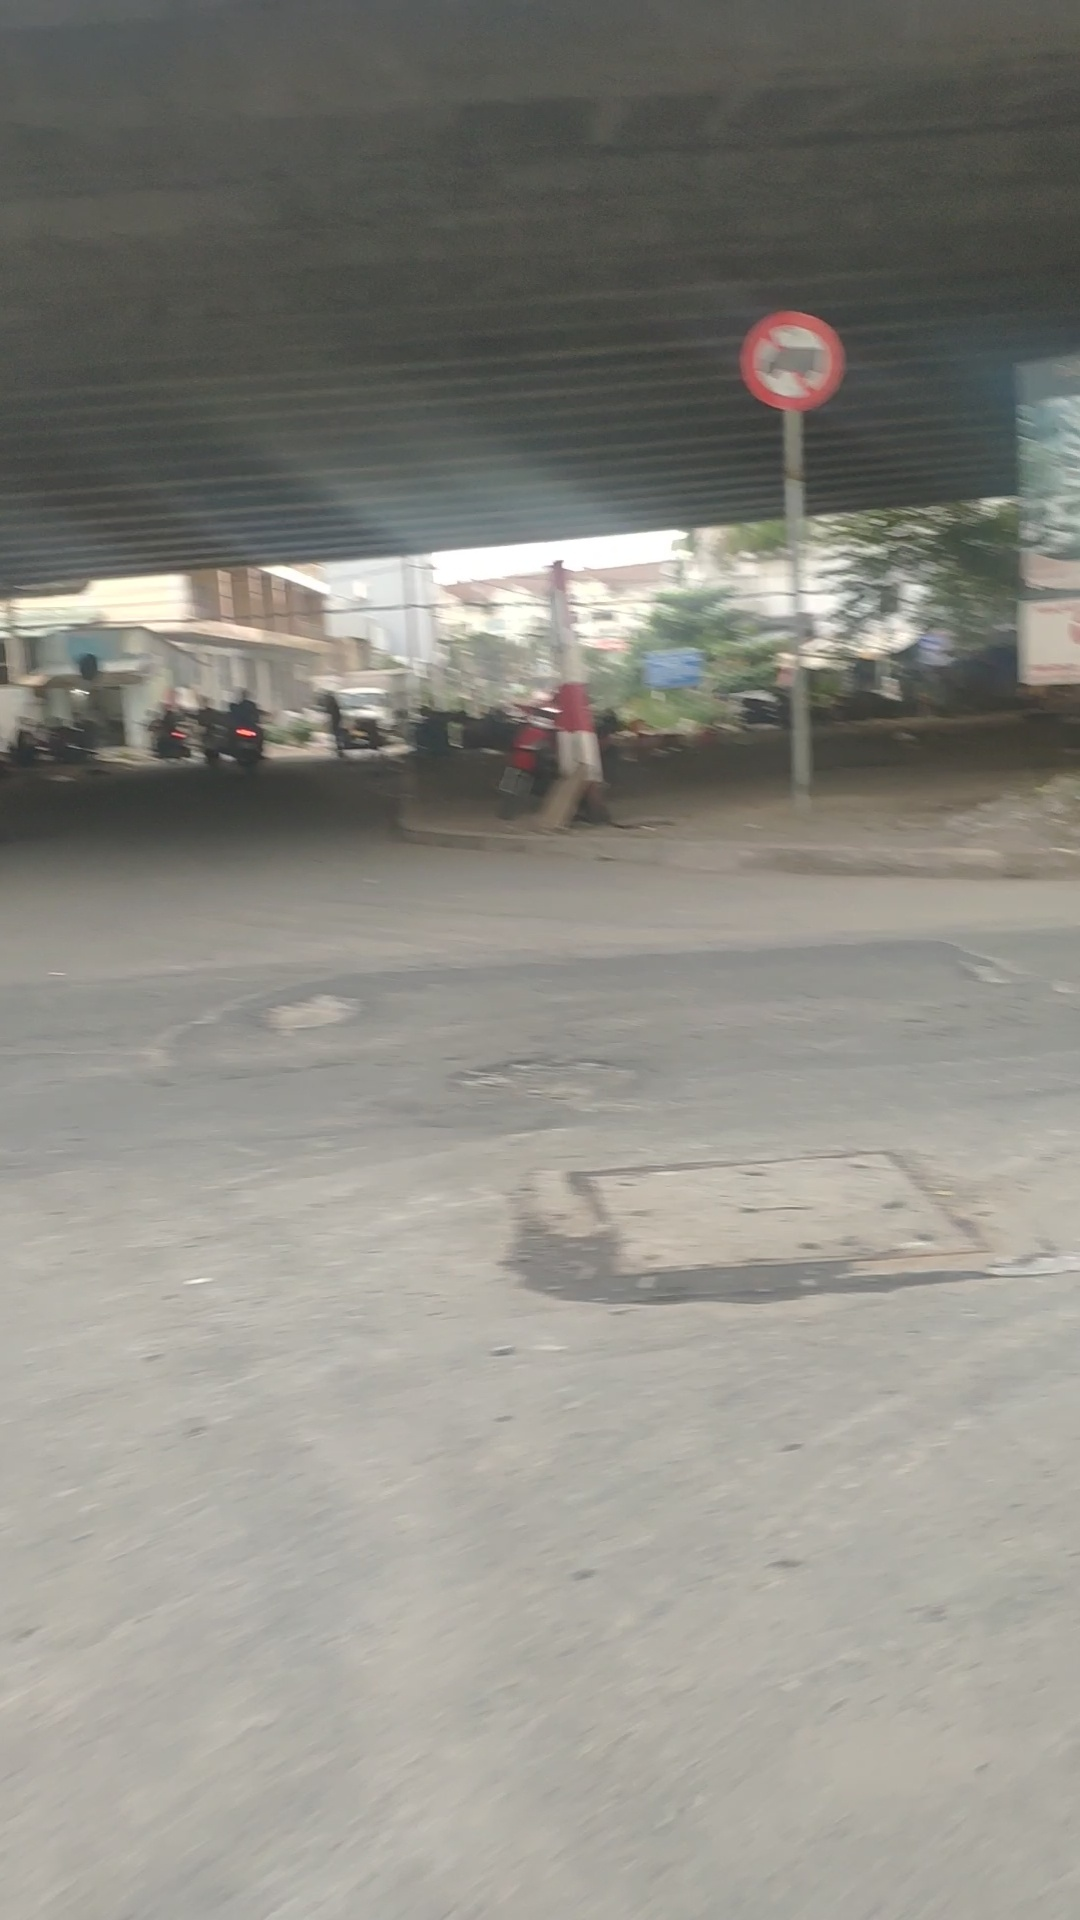hole: (440, 1054, 659, 1106), (257, 978, 377, 1040)
